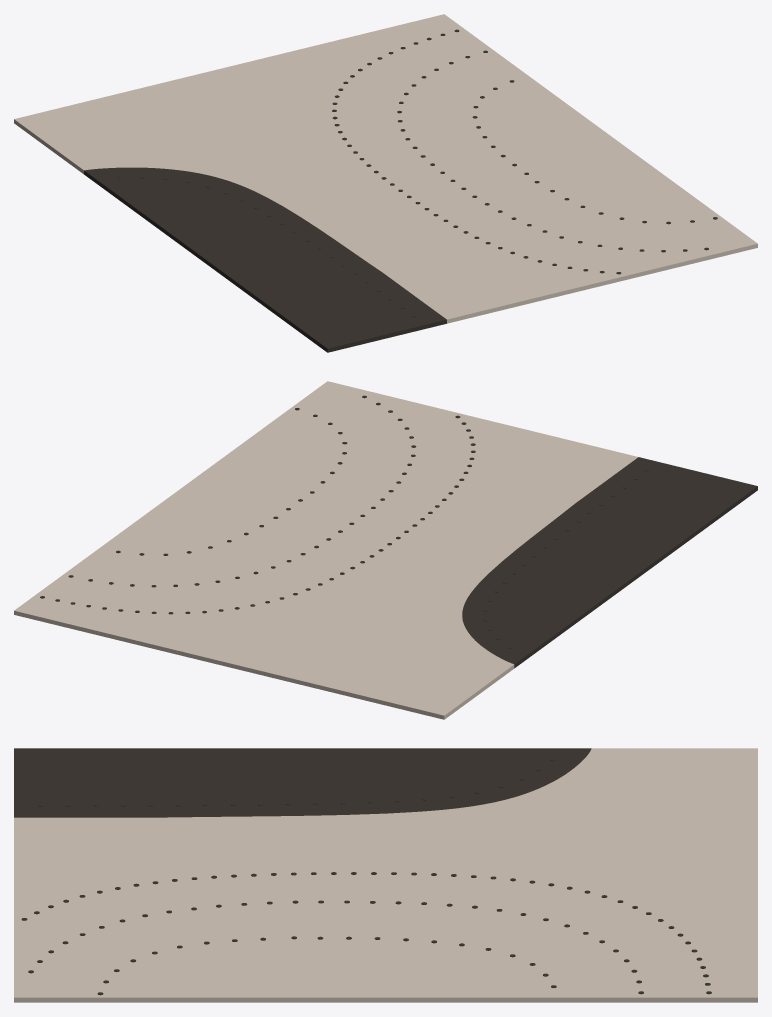
File: Furniture_Other-Furniture_Fritz-Hansen_Rug-Dotted-Balance.fbx
3 views of the same model, one above another, from view 1: azimuth 30°, elevation 25°; view 2: azimuth 150°, elevation 25°; view 3: azimuth 270°, elevation 25° (orthographic). The views are drawn at different scales.
Visible parts, largest first — view 1: L_8926e101_9b43_485b_b605_e7512a98ec83_I55, L_50f7e117_394f_43ae_a45f_2e6e1d211bf8_I37; view 2: L_8926e101_9b43_485b_b605_e7512a98ec83_I55, L_50f7e117_394f_43ae_a45f_2e6e1d211bf8_I37; view 3: L_8926e101_9b43_485b_b605_e7512a98ec83_I55, L_50f7e117_394f_43ae_a45f_2e6e1d211bf8_I37.
Boxes of the visible parts, x1,y1,x2,y2 form: L_8926e101_9b43_485b_b605_e7512a98ec83_I55: [14, 14, 757, 323]; L_50f7e117_394f_43ae_a45f_2e6e1d211bf8_I37: [84, 167, 446, 352]; L_8926e101_9b43_485b_b605_e7512a98ec83_I55: [14, 381, 638, 719]; L_50f7e117_394f_43ae_a45f_2e6e1d211bf8_I37: [462, 457, 757, 668]; L_8926e101_9b43_485b_b605_e7512a98ec83_I55: [14, 748, 757, 1002]; L_50f7e117_394f_43ae_a45f_2e6e1d211bf8_I37: [14, 748, 591, 817].
Size of the model in its own units: 1030 by 1300 by 10.5.
